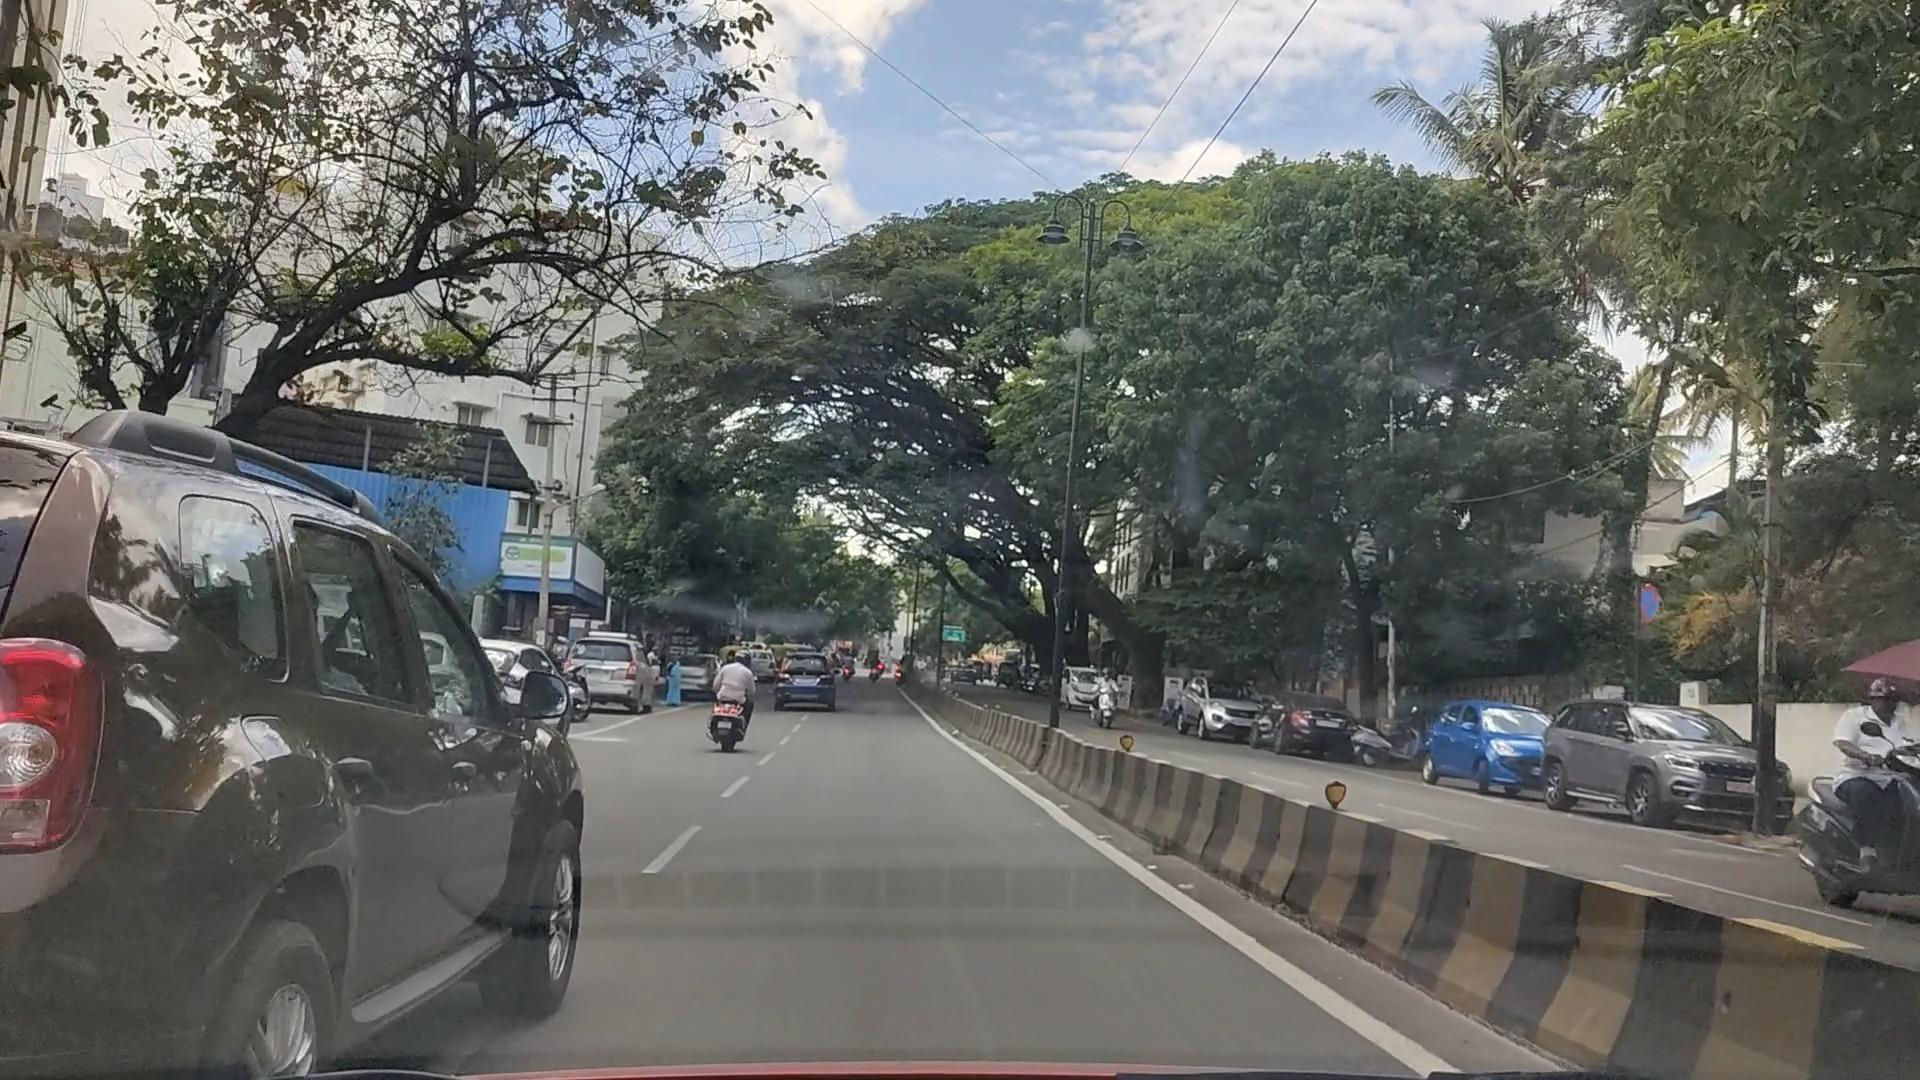LMV: (11, 430, 595, 1080)
